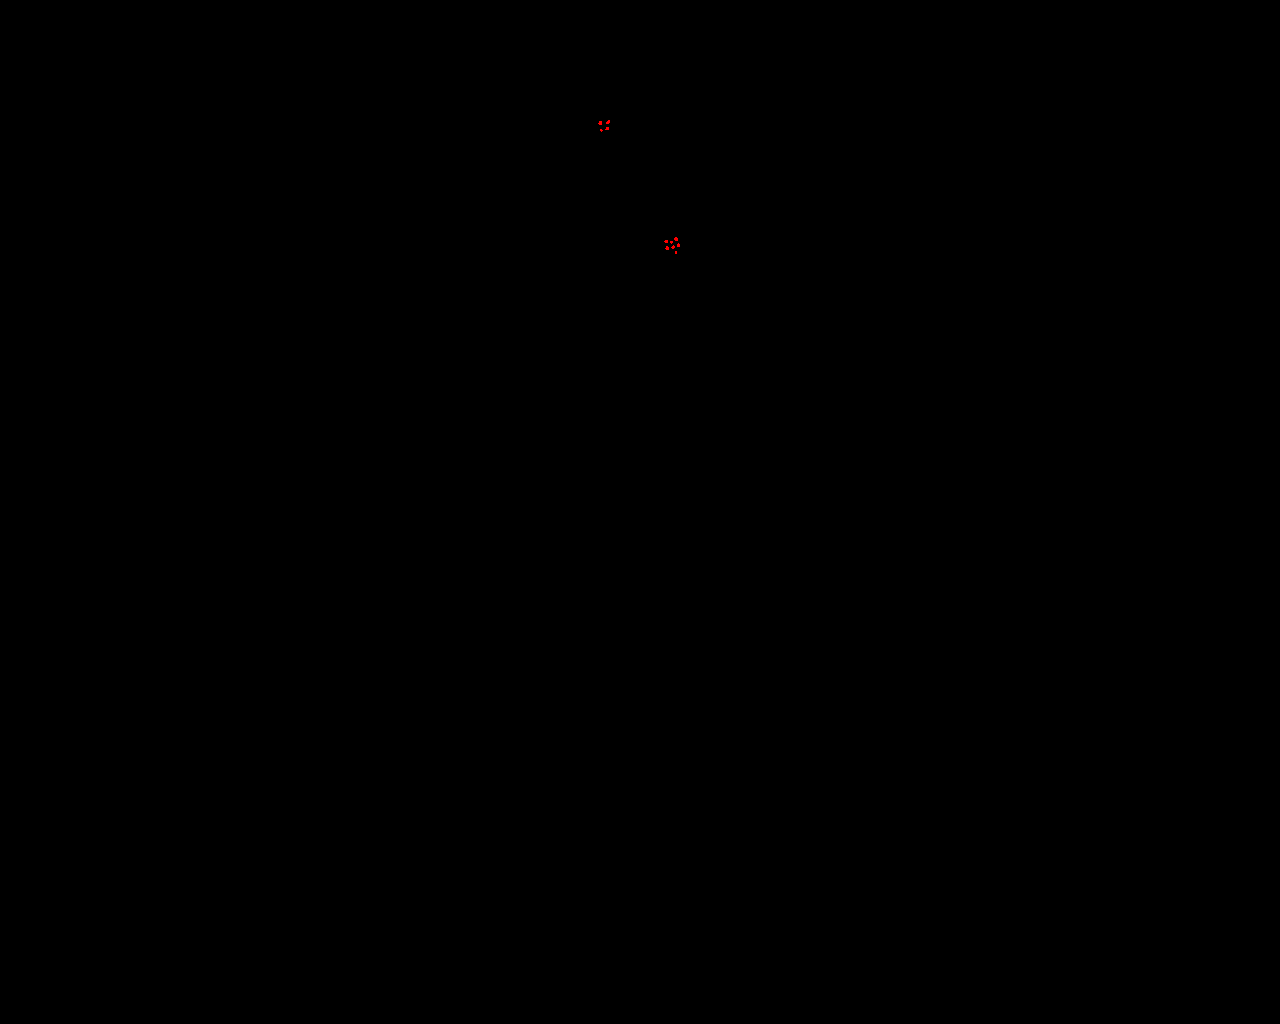Target: (606, 120, 610, 124), (598, 121, 602, 125), (674, 237, 678, 241), (671, 245, 675, 249), (665, 246, 669, 250), (664, 240, 668, 243), (600, 129, 603, 132), (670, 241, 673, 245), (677, 243, 680, 247), (605, 127, 609, 130), (675, 251, 677, 254)
